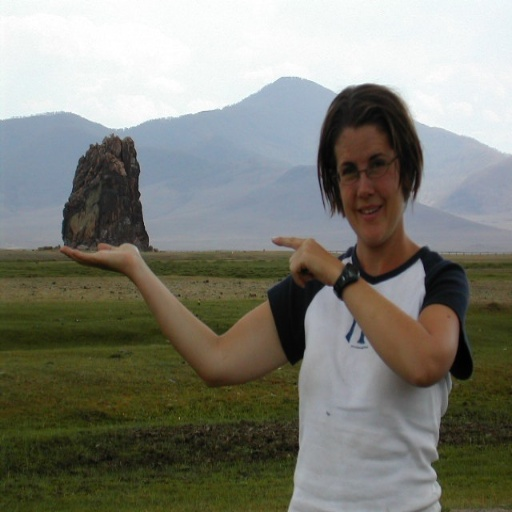hand: (281, 230, 348, 293), (60, 242, 144, 274)
